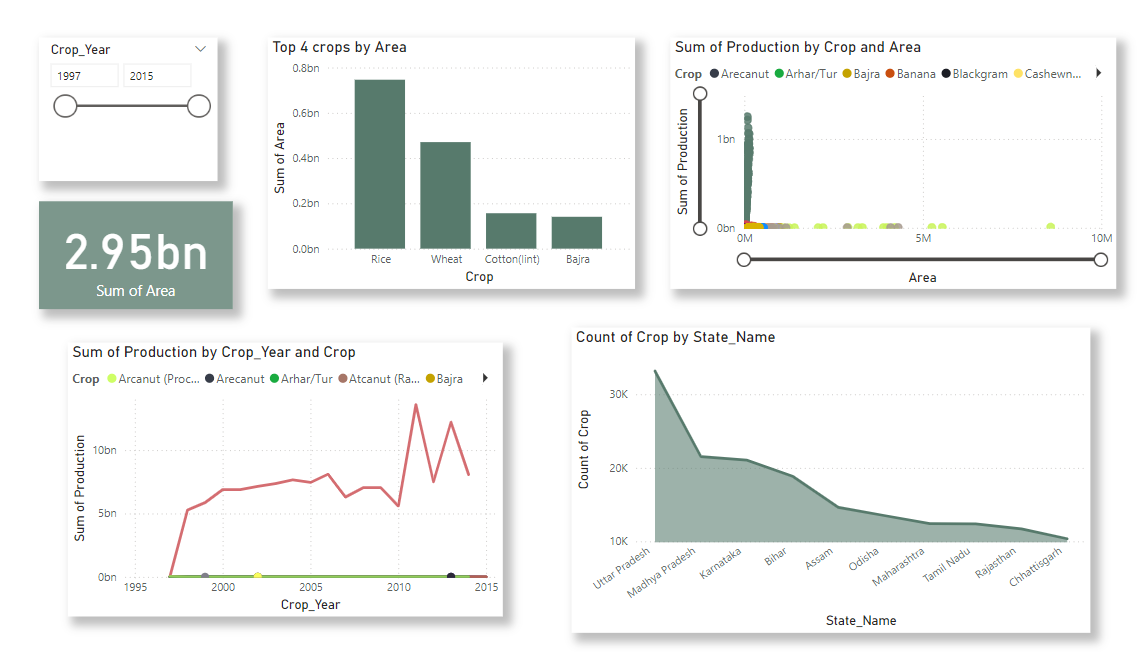

The page's visual inventory and layout, read from the dashboard file:
{"tool":"powerbi","page":{"name":"Page 2","canvas":[1280,720],"ordinal":1},"visuals":[{"type":"card","fields":{"Values":["Sum(preprocessed_crop_data.Area)"]},"box":[54.9,220.9,212.7,118],"z":0},{"type":"columnChart","title":"Top 4 crops by Area","fields":{"Y":["Sum(preprocessed_crop_data.Area)"],"Category":["preprocessed_crop_data.Crop"]},"box":[306,41.2,403.4,275.8],"z":1000},{"type":"slicer","fields":{"Values":["preprocessed_crop_data.Crop_Year"]},"box":[54.9,41.2,196.2,157.8],"z":2000},{"type":"lineChart","fields":{"Y":["Sum(preprocessed_crop_data.Production)"],"Category":["preprocessed_crop_data.Crop_Year"],"Series":["preprocessed_crop_data.Crop"]},"box":[87,376,477.5,301],"z":3000},{"type":"areaChart","fields":{"Category":["preprocessed_crop_data.State_Name"],"Y":["CountNonNull(preprocessed_crop_data.Crop)"]},"box":[639.5,359.5,569.5,334.8],"z":4000},{"type":"scatterChart","fields":{"Y":["Sum(preprocessed_crop_data.Production)"],"X":["preprocessed_crop_data.Area"],"Series":["preprocessed_crop_data.Crop"]},"box":[747.9,41.2,489.9,275.8],"z":5000}]}

Visuals, with their boxes in screenshot pixels (x1, y1, x2, y2), scaled from the page's 1280x720 canvas onto the 1144x652 screenshot:
card - Sum(preprocessed_crop_data.Area): region(49, 200, 239, 307)
"Top 4 crops by Area" columnChart: region(273, 37, 634, 287)
slicer - preprocessed_crop_data.Crop_Year: region(49, 37, 224, 180)
lineChart - Sum(preprocessed_crop_data.Production) x preprocessed_crop_data.Crop_Year: region(78, 340, 505, 613)
areaChart - preprocessed_crop_data.State_Name x CountNonNull(preprocessed_crop_data.Crop): region(572, 326, 1081, 629)
scatterChart - Sum(preprocessed_crop_data.Production) x preprocessed_crop_data.Area: region(668, 37, 1106, 287)
